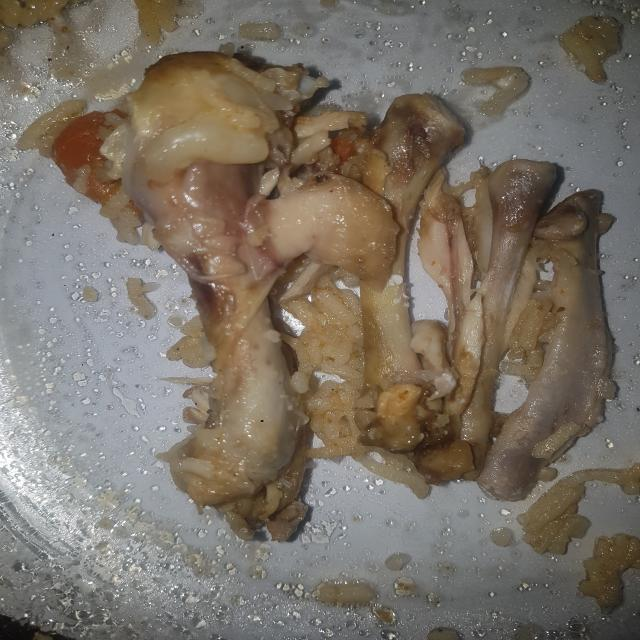paper: (131, 67, 597, 523)
